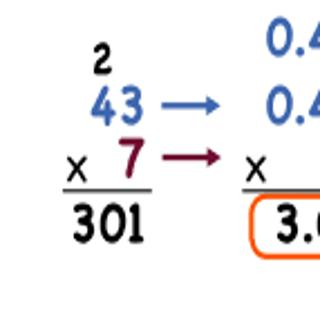.: (299, 226, 314, 245), (293, 110, 308, 128), (294, 43, 306, 60)
0: (263, 10, 295, 60), (264, 81, 295, 129), (98, 200, 127, 246)
1: (126, 199, 146, 246)
2: (83, 35, 117, 80)
3: (65, 200, 97, 247), (117, 81, 148, 127), (275, 199, 299, 247)
4: (85, 84, 119, 128)
7: (114, 132, 148, 183)
